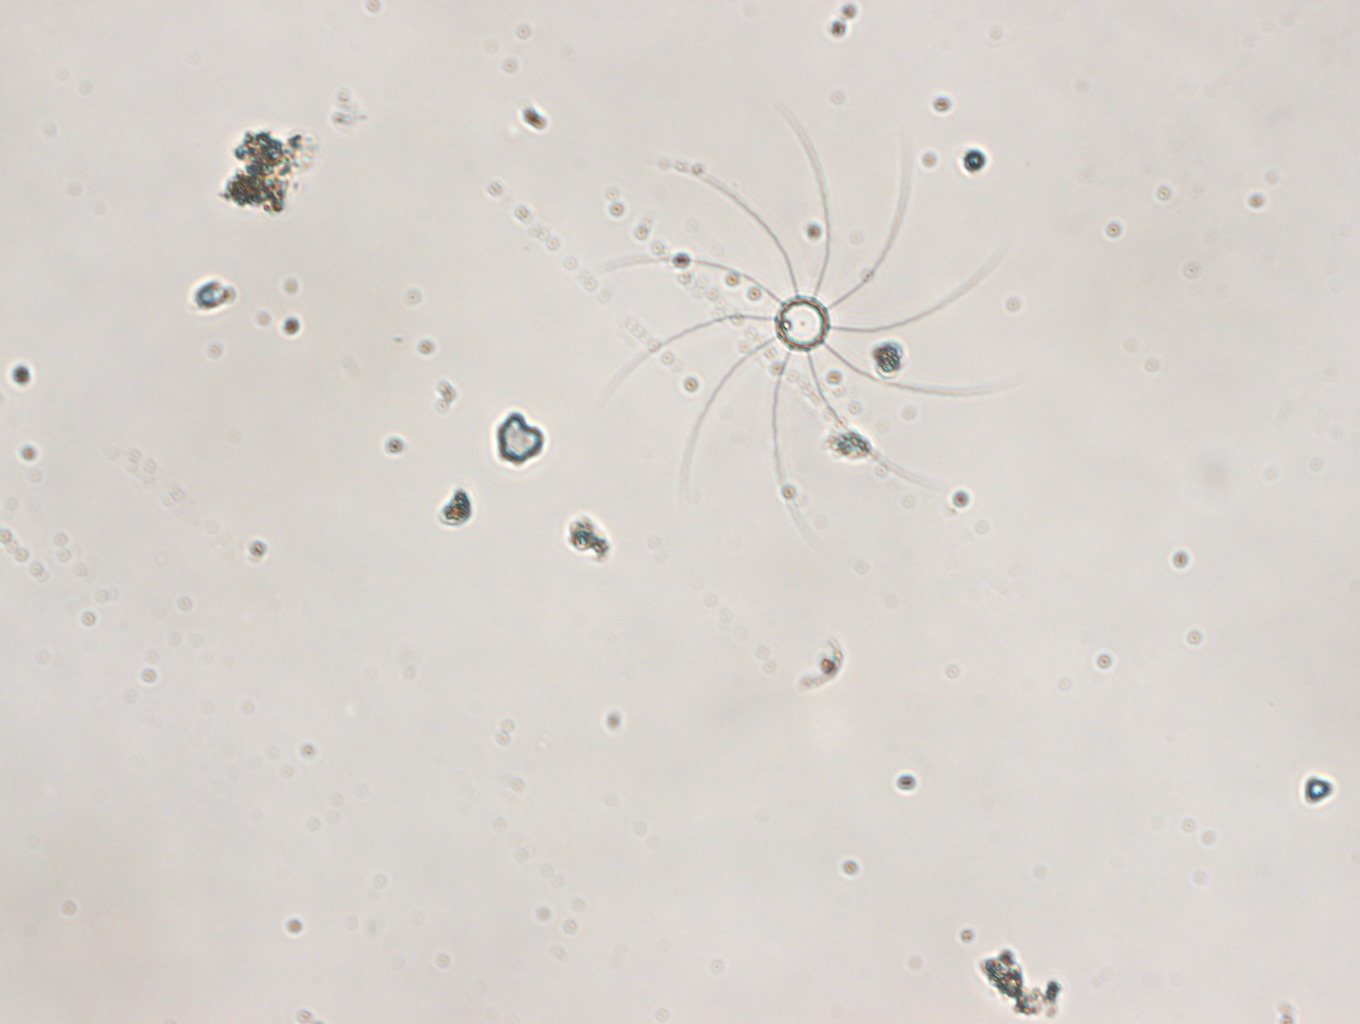bacteriastrum: (598, 108, 1010, 509)
